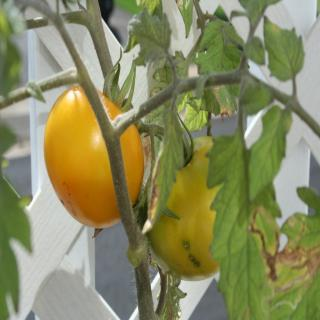tomato: (43, 45, 146, 232), (146, 132, 222, 289)
